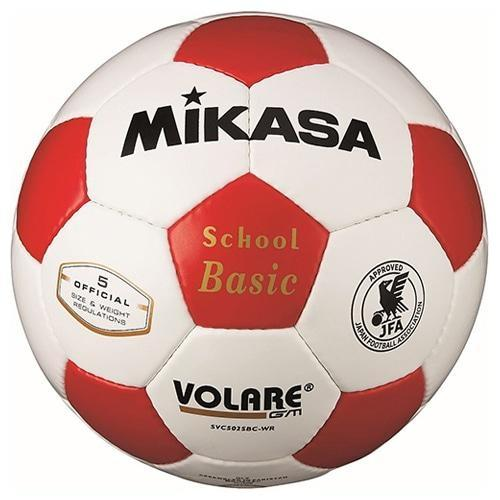Sports-Ball: (13, 13, 489, 478)
